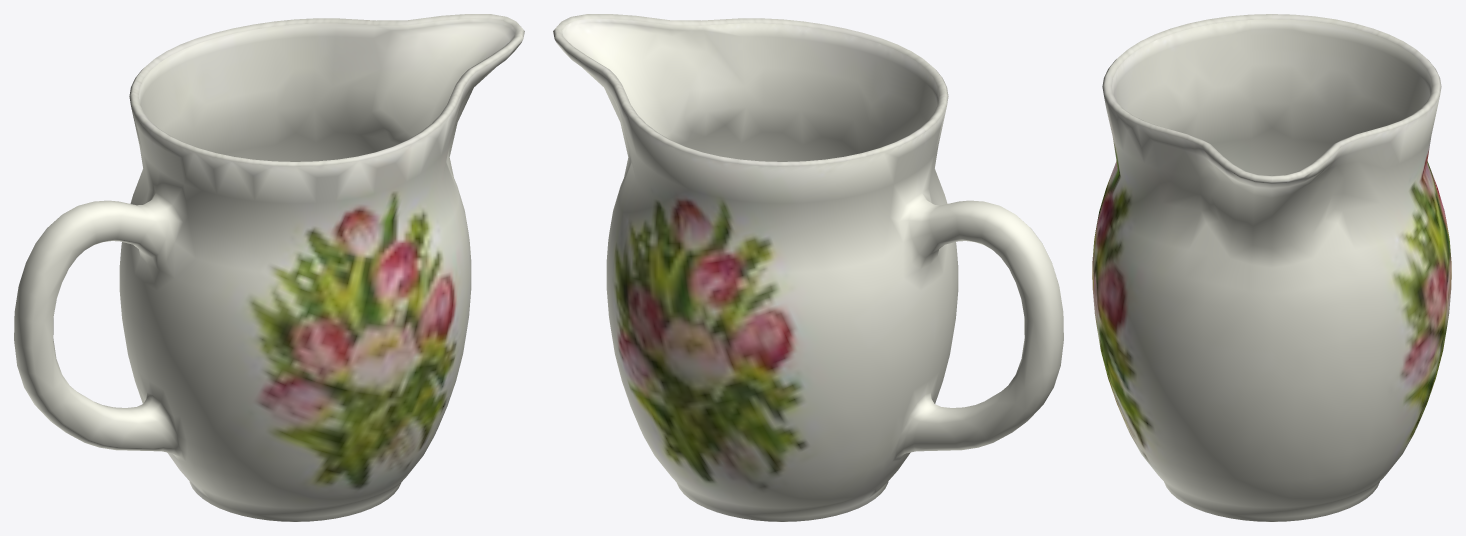
The model's file is jug_01.glb.
3 views of the same model, side by side, from view 1: azimuth 30°, elevation 25°; view 2: azimuth 150°, elevation 25°; view 3: azimuth 270°, elevation 25° (orthographic). The views are drawn at different scales.
Parts seen in each view (by area): view 1: jug_01; view 2: jug_01; view 3: jug_01.
Part boxes in pixels (<box>): jug_01: <box>14,14,524,521</box>; jug_01: <box>553,14,1063,521</box>; jug_01: <box>1092,14,1451,521</box>.
Bounding box in the file's own units: 0.2753 × 0.2113 × 0.1675.
Materials: 1 (1 with a texture image).
